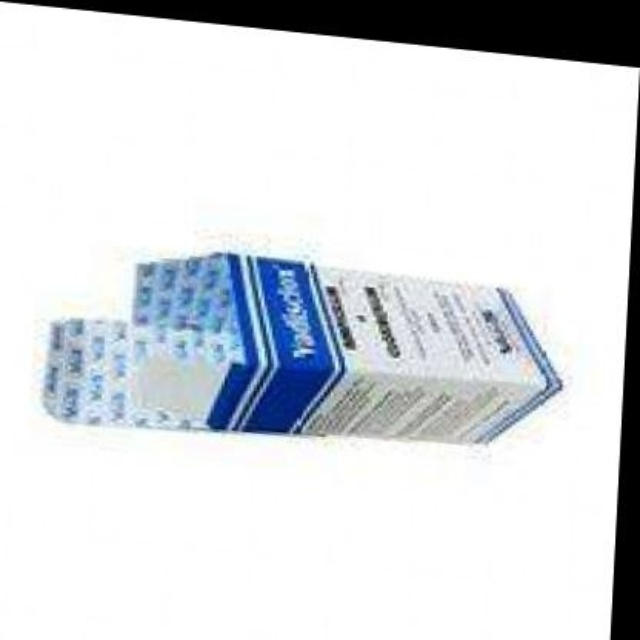trash: (43, 252, 560, 442)
